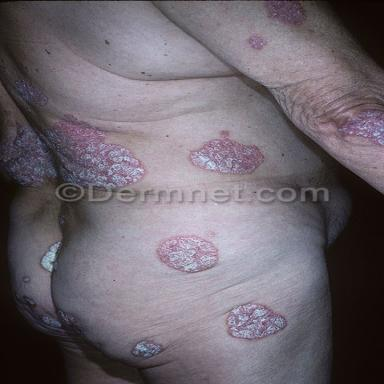Psoriasis: (1, 115, 144, 188), (188, 131, 264, 174), (157, 235, 218, 273), (227, 303, 286, 340), (338, 109, 384, 145), (14, 77, 48, 106), (266, 1, 307, 25), (41, 241, 62, 272), (132, 340, 162, 358), (57, 310, 77, 326), (41, 316, 62, 329), (248, 35, 266, 49), (24, 297, 35, 305), (7, 120, 19, 126), (23, 277, 29, 282)
